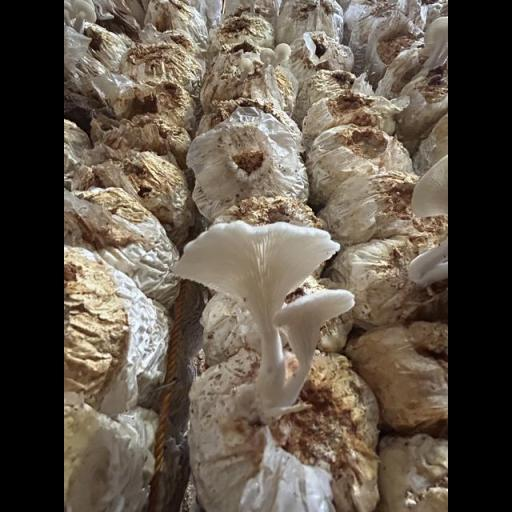White Oyster Mushroom: (174, 217, 349, 411)
